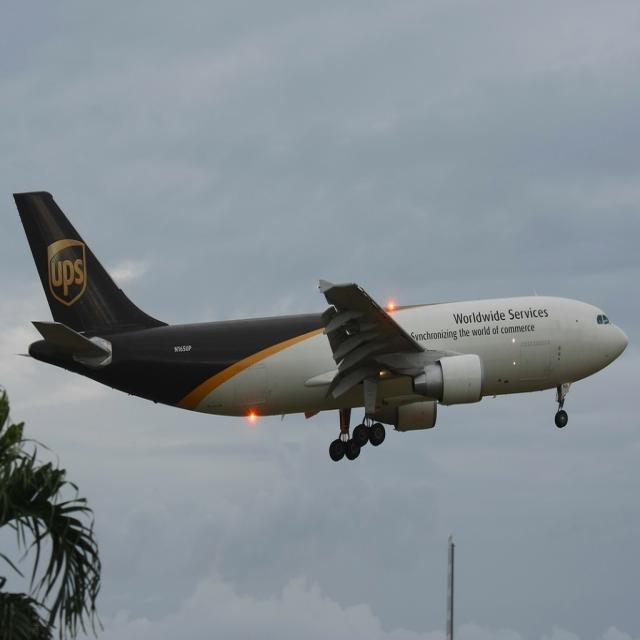ups: (49, 238, 88, 308)
